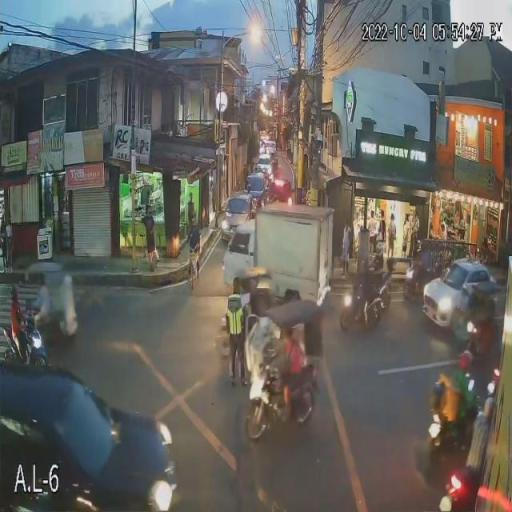helmet: (458, 350, 472, 368), (8, 284, 22, 302), (375, 241, 386, 258)
motorcycle: (244, 342, 316, 442), (425, 388, 480, 470), (340, 274, 392, 332), (0, 314, 52, 368), (459, 324, 497, 370)
rider: (430, 350, 480, 436), (272, 324, 310, 406), (464, 300, 498, 354), (361, 244, 387, 305), (10, 282, 34, 336)
